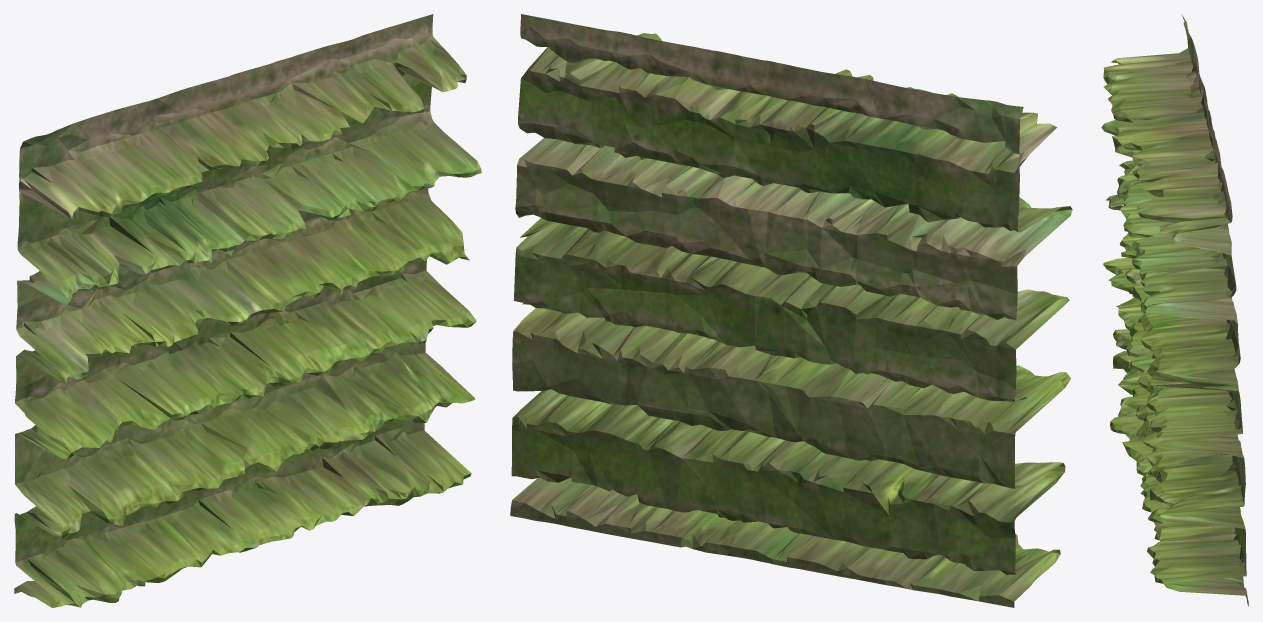
The model's file is map_60_30.obj.
3 views of the same model, side by side, from view 1: azimuth 30°, elevation 25°; view 2: azimuth 150°, elevation 25°; view 3: azimuth 270°, elevation 25° (orthographic). The views are drawn at different scales.
Visible parts, largest first — view 1: grp1; view 2: grp1; view 3: grp1.
Part boxes in pixels (x1=…): grp1: x1=14, y1=14, x2=481, y2=607; grp1: x1=510, y1=14, x2=1072, y2=607; grp1: x1=1101, y1=14, x2=1248, y2=606.
Size of the model in its own units: 10 by 10 by 3.3.
1 material, 1 textured.
